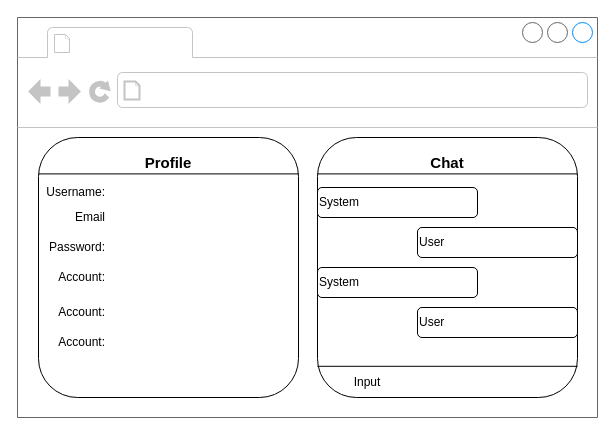
Some shapes in this 615 by 435 pixel diagram are drawn without their labels. Here are the shapes that lost their labels. From the top down, the centre of each, then its label:
point 132,42: Page 1
point 272,90: https://www.draw.io
